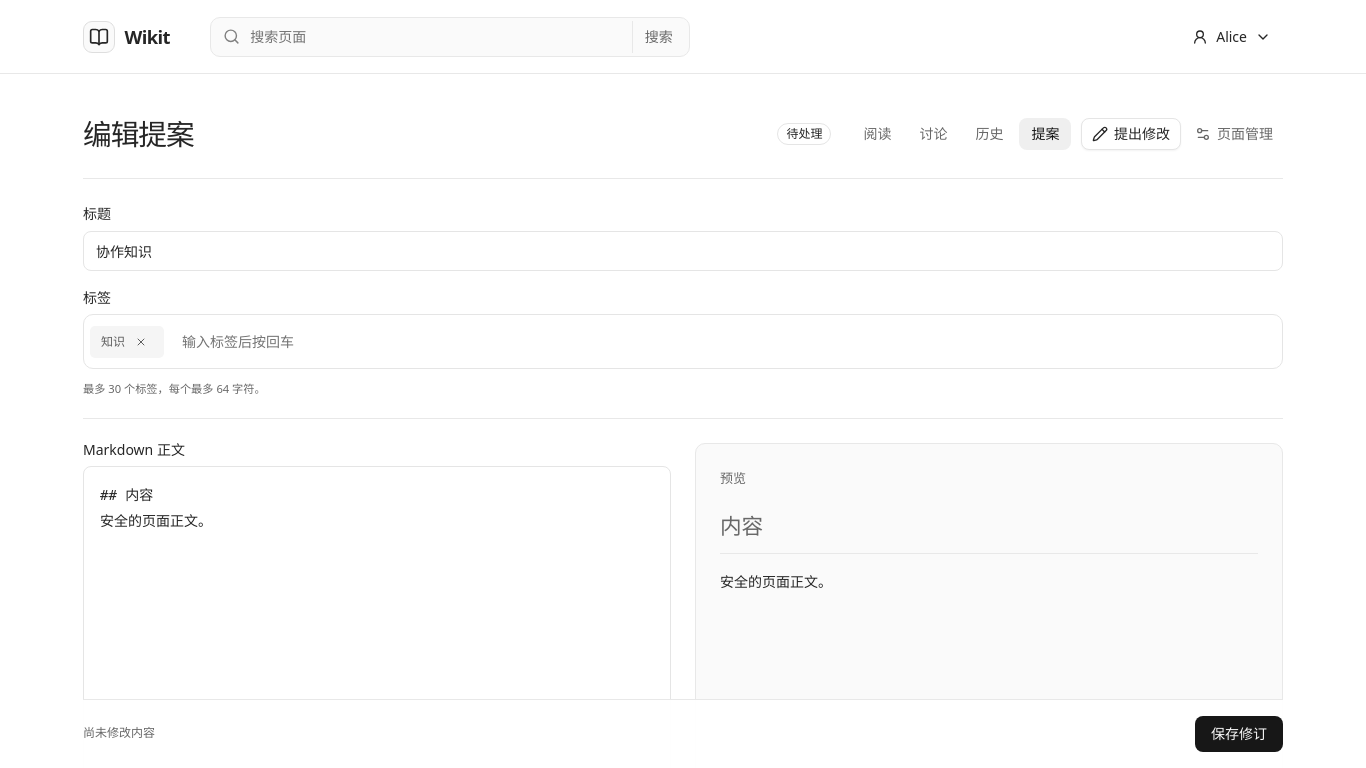
does not loop on repeated 401 responses after losing an authenticated identity
Click the button "保存修订".
click(1239, 734)  # box [1195, 716, 1283, 752]
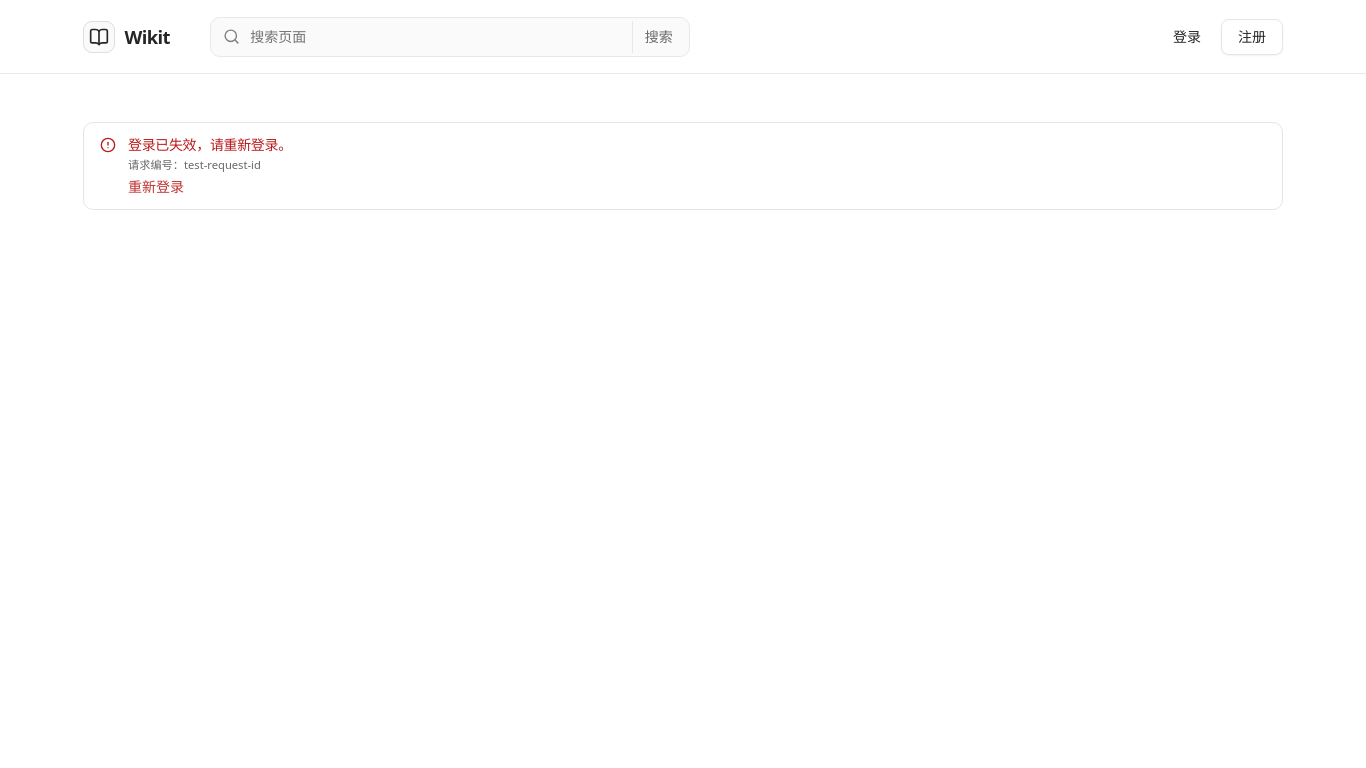
Result: the message "登录已失效，请重新登录。 请求编号：test-request-id 重新登录" is shown at [83, 122, 1283, 210]
